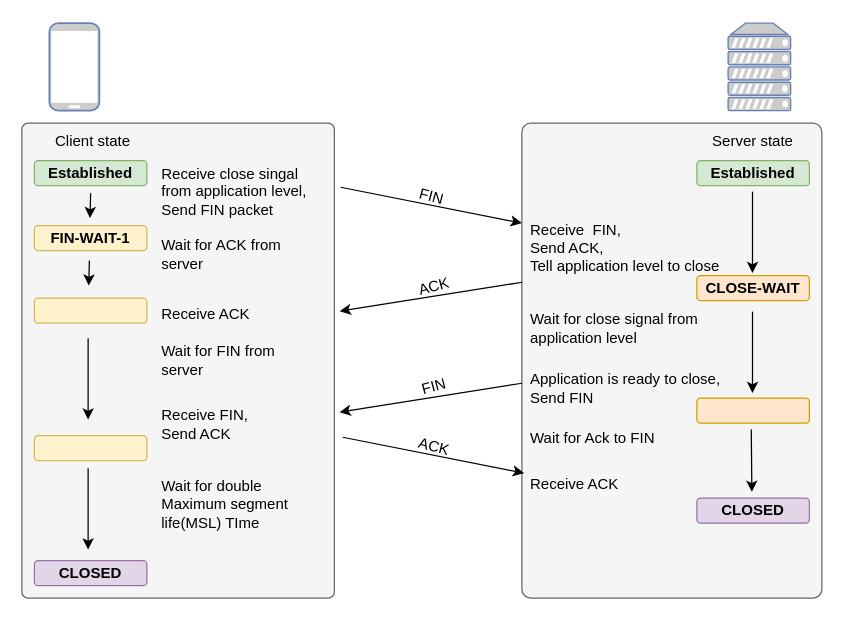
Image size: 844x620. Some labels were removed from this diagram. Here are the shapes that lost their labels. From the top down, the box of each, then its label:
(33, 297, 147, 323): FIN-WAIT-2
(696, 397, 809, 423): LAST-ACK
(33, 434, 147, 461): TIME-WAIT
